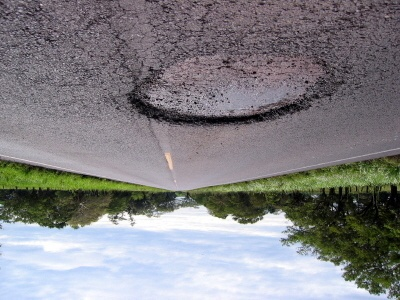pothole: (110, 48, 338, 133)
